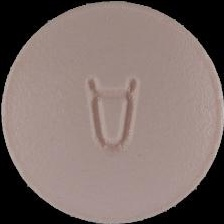63739-572: (0, 0, 224, 224)
